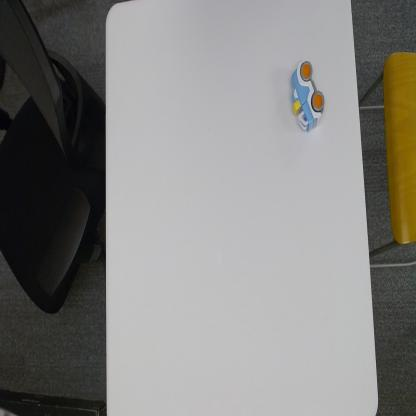Car: (290, 58, 326, 134)
